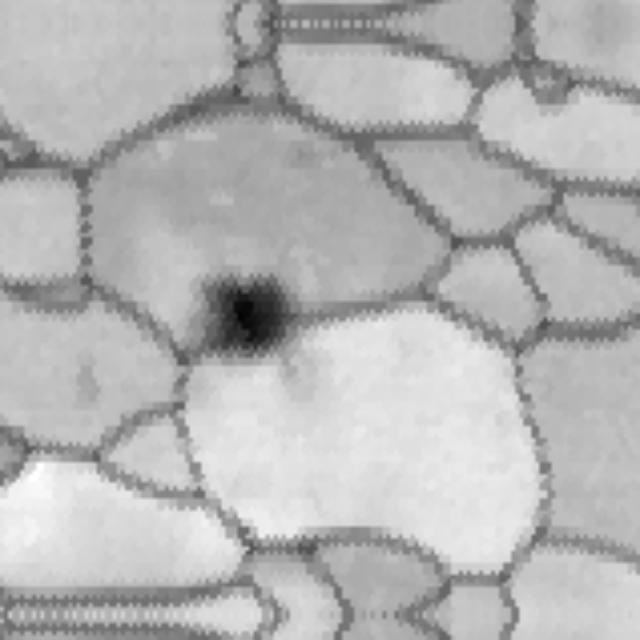good_void: (186, 256, 315, 363)
